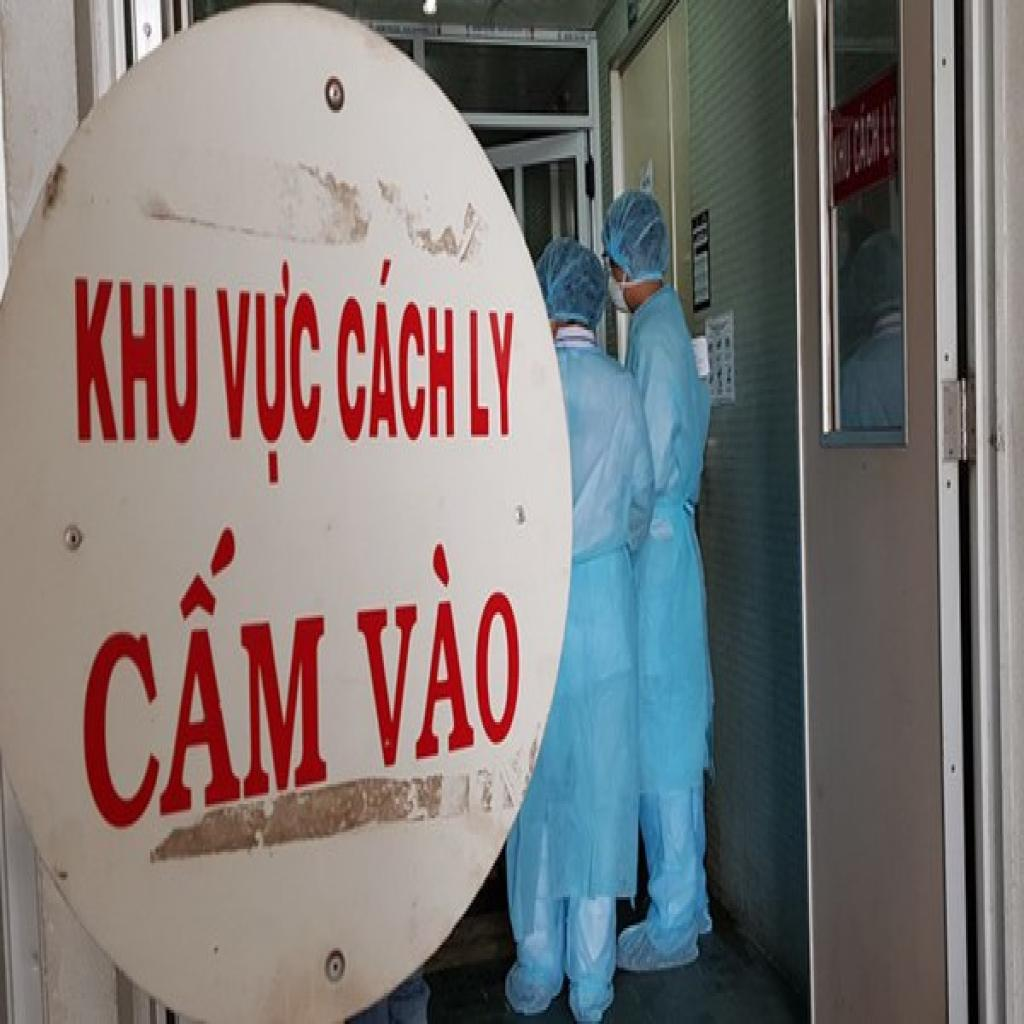text: (70, 528, 336, 844), (346, 522, 536, 776), (210, 254, 333, 494), (70, 265, 208, 454), (334, 251, 461, 449), (466, 296, 517, 446), (852, 96, 882, 180), (830, 121, 854, 189), (882, 90, 900, 161)
